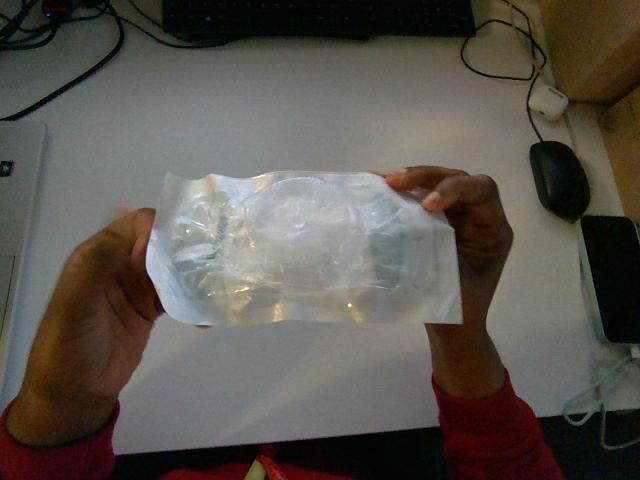gallipot: (147, 171, 461, 324)
